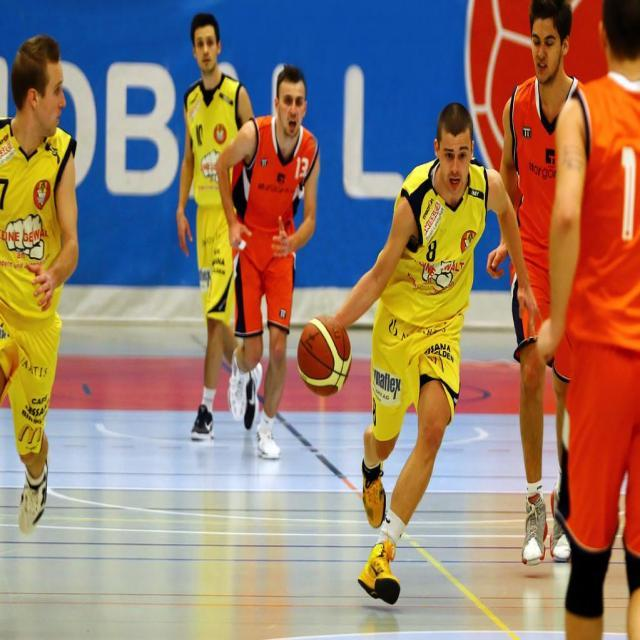rim: (298, 310, 354, 399)
